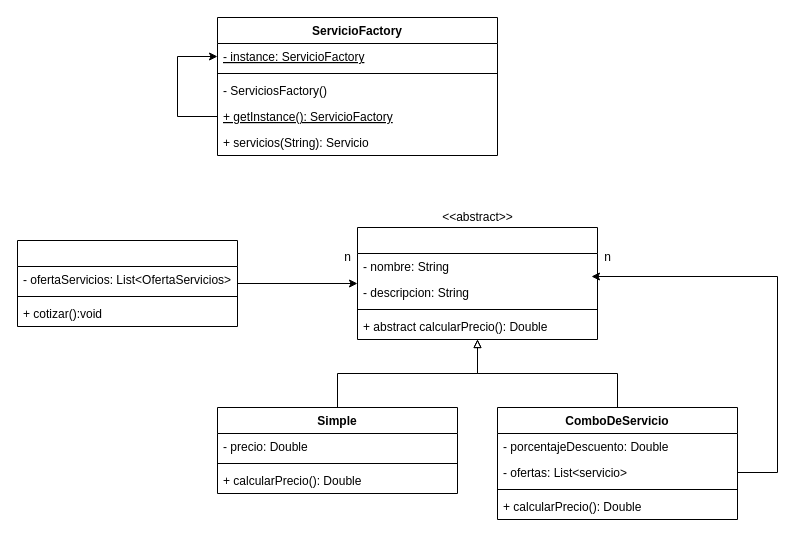
Some shapes in this 803 by 540 pixel diagram are drawn without their labels. The box of each missing label's shape, as (x1, y1, x2, y2) in pixels:
Empresa: (16, 240, 238, 326)
Servicio: (356, 226, 598, 340)
